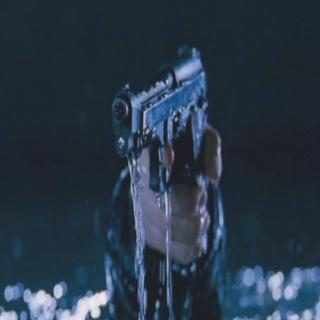gun: (108, 35, 220, 272)
